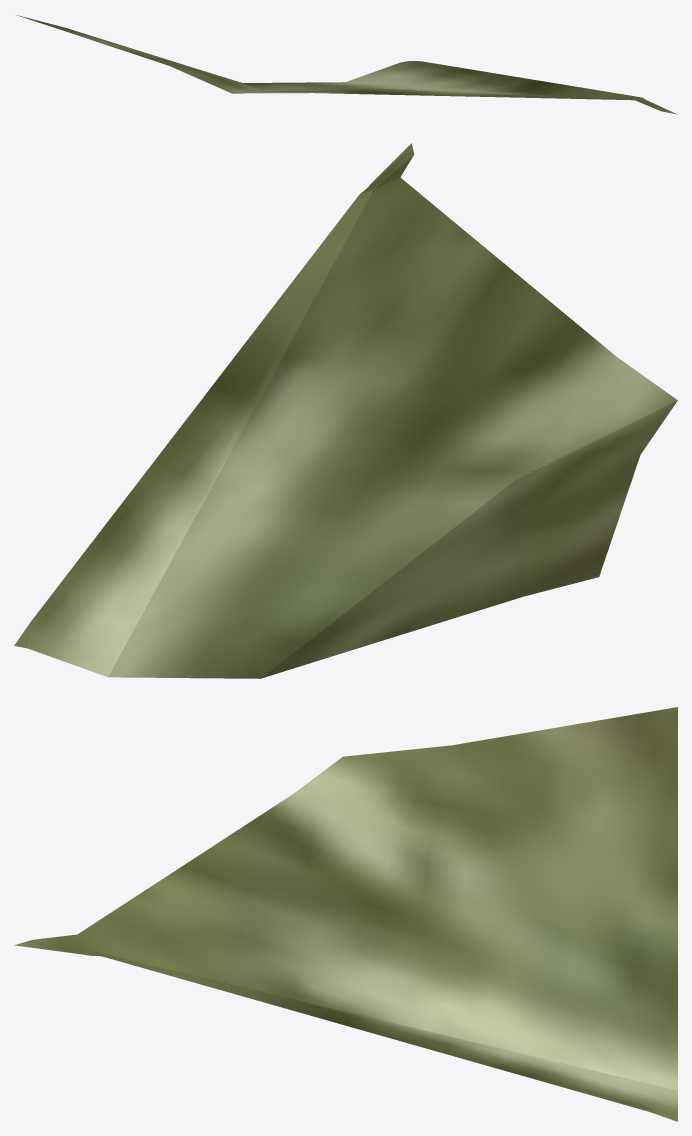
3 renders of one model, top to bottom at view 1: azimuth 30°, elevation 25°; view 2: azimuth 150°, elevation 25°; view 3: azimuth 270°, elevation 25°, orthographic. The views are drawn at different scales.
Size of the model in its own units: 0.3208 by 0.1153 by 0.3777.
1 material, 1 textured.
